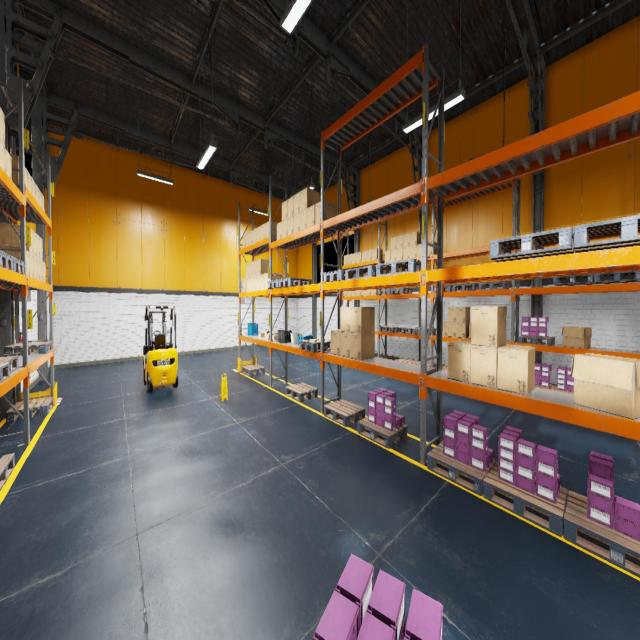box: (570, 353, 640, 419), (497, 344, 535, 395), (470, 345, 504, 388), (471, 306, 506, 347), (0, 222, 33, 254), (447, 339, 471, 383), (350, 332, 374, 360), (562, 326, 592, 348), (350, 306, 374, 333), (315, 200, 336, 224), (300, 187, 319, 211), (0, 244, 21, 260), (9, 154, 19, 184), (340, 332, 350, 358), (340, 306, 350, 332), (265, 273, 281, 289), (331, 329, 340, 355), (5, 148, 12, 180), (265, 221, 278, 238), (0, 106, 5, 148), (456, 307, 470, 322), (456, 322, 469, 338), (0, 140, 6, 172), (257, 259, 269, 275), (307, 204, 315, 227), (410, 231, 421, 245), (300, 209, 307, 230), (427, 242, 437, 256), (294, 192, 300, 215), (288, 195, 294, 218), (447, 307, 456, 322), (294, 212, 300, 233), (447, 322, 456, 336), (372, 248, 382, 260), (276, 221, 282, 240), (26, 250, 30, 276), (36, 233, 40, 259), (282, 200, 287, 220), (282, 218, 287, 238), (288, 216, 293, 235), (28, 170, 32, 193), (33, 256, 37, 279), (403, 246, 410, 259), (409, 245, 416, 258), (403, 233, 410, 246), (24, 166, 28, 188), (33, 230, 36, 256), (397, 235, 403, 248), (30, 253, 33, 278), (442, 321, 447, 336), (366, 249, 372, 261), (37, 257, 40, 280), (261, 223, 265, 240), (261, 273, 265, 290), (32, 177, 35, 199), (40, 260, 43, 282), (43, 261, 46, 283), (371, 289, 382, 295), (391, 237, 396, 250), (385, 250, 390, 263), (256, 226, 260, 242), (249, 230, 253, 245), (397, 248, 402, 260), (391, 249, 396, 261), (249, 277, 253, 291), (361, 251, 366, 262), (41, 193, 44, 211), (417, 244, 421, 257), (40, 237, 42, 261), (253, 260, 256, 276), (249, 261, 252, 277), (253, 228, 256, 243), (257, 275, 260, 290), (246, 232, 249, 246), (242, 234, 245, 248), (253, 276, 256, 290), (246, 278, 249, 292), (36, 183, 38, 203), (39, 188, 41, 208), (266, 329, 274, 334), (357, 252, 361, 262), (352, 253, 356, 263), (348, 254, 352, 264), (242, 278, 245, 291), (246, 262, 248, 278), (469, 322, 471, 338), (366, 289, 371, 295), (356, 290, 361, 296), (344, 255, 347, 265), (361, 290, 366, 295), (272, 335, 278, 339), (352, 290, 356, 296), (266, 334, 270, 339), (259, 333, 264, 337), (348, 291, 352, 296), (343, 291, 347, 296), (264, 333, 266, 337)
forklift: (143, 306, 178, 392)
pallets: (563, 491, 640, 577), (483, 462, 568, 536), (428, 440, 496, 496), (490, 227, 575, 261), (573, 215, 640, 252), (358, 416, 407, 448), (6, 397, 54, 422), (324, 399, 364, 427), (4, 341, 52, 357), (376, 259, 421, 276), (285, 383, 318, 402), (594, 270, 640, 283), (0, 452, 14, 490), (553, 274, 594, 286), (345, 266, 376, 280), (299, 338, 330, 352), (518, 336, 555, 346), (323, 270, 353, 282), (278, 278, 312, 288), (0, 356, 18, 372), (242, 364, 264, 376), (0, 250, 13, 270), (479, 282, 509, 290), (0, 362, 10, 383), (550, 384, 573, 393), (452, 284, 478, 291), (13, 258, 24, 274), (412, 328, 435, 335), (411, 361, 436, 367), (379, 325, 398, 332), (395, 327, 417, 333), (434, 285, 452, 292), (391, 288, 412, 294), (395, 358, 417, 363), (268, 280, 281, 288), (378, 289, 394, 295), (535, 384, 552, 389), (434, 366, 448, 370)
